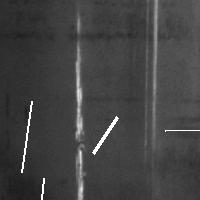scratches: (69, 13, 85, 197), (142, 1, 159, 154), (16, 96, 36, 177), (88, 112, 122, 158), (30, 173, 48, 200), (160, 124, 200, 135)
